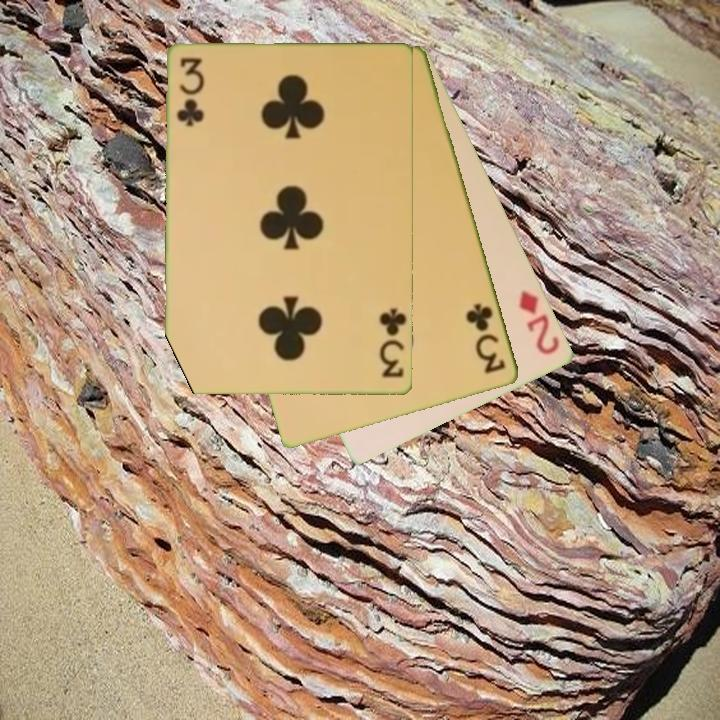2d: (516, 287, 563, 358)
3c: (463, 300, 509, 377), (376, 305, 409, 381), (174, 54, 204, 130)
